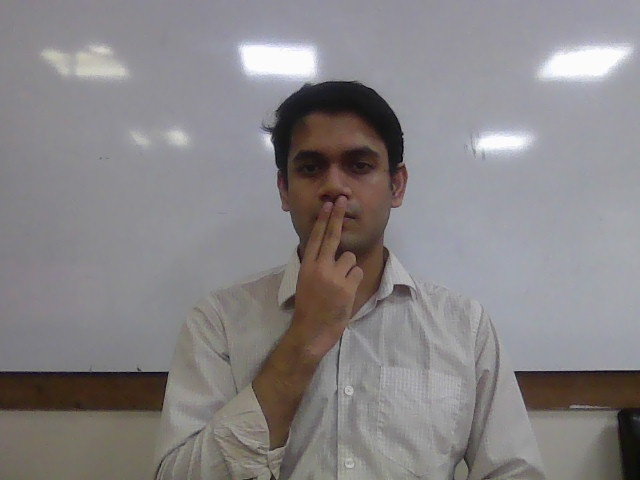Bak: (291, 195, 365, 357)
